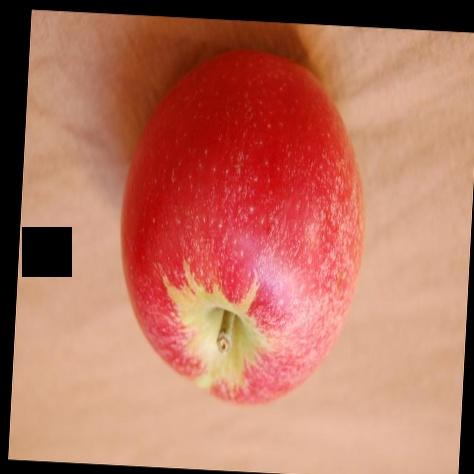red apple: (118, 47, 367, 413)
